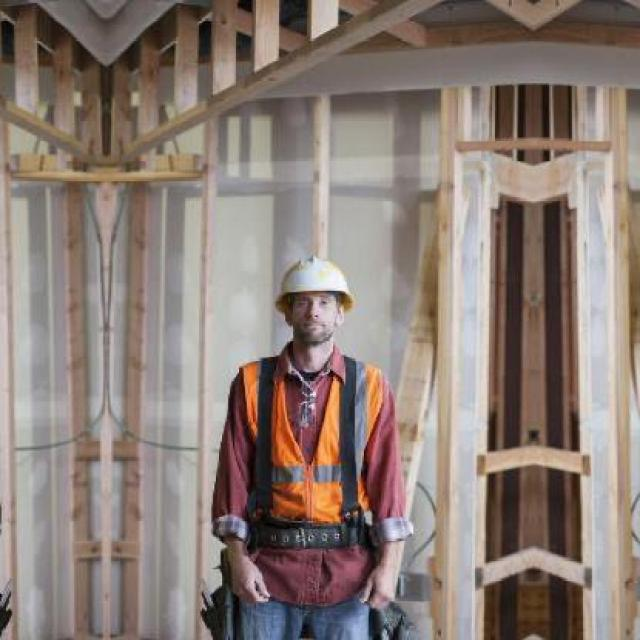Reflective-Jacket: (213, 345, 404, 609)
Safety-Helmet: (259, 244, 369, 322), (513, 627, 555, 640)
